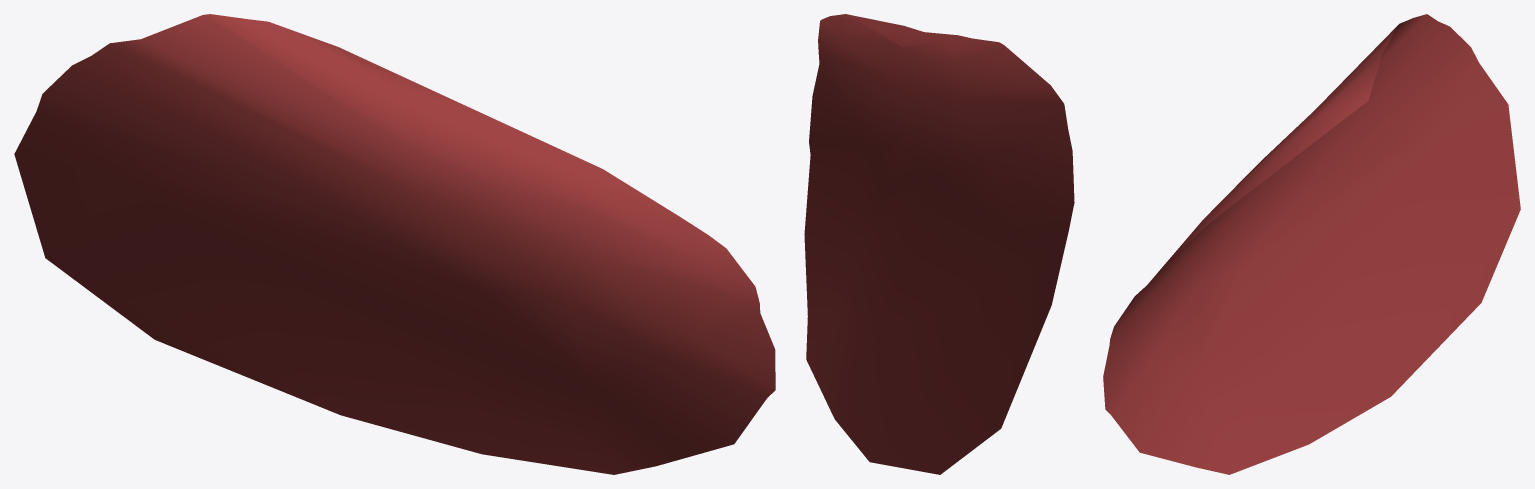
The model's file is omohyoid-muscle-ol.glb.
3 views of the same model, side by side, from view 1: azimuth 30°, elevation 25°; view 2: azimuth 150°, elevation 25°; view 3: azimuth 270°, elevation 25° (orthographic). The views are drawn at different scales.
Visible parts, largest first — view 1: Omohyoid muscle.ol; view 2: Omohyoid muscle.ol; view 3: Omohyoid muscle.ol.
Boxes of the visible parts, <box> form: Omohyoid muscle.ol: <box>14,14,775,474</box>; Omohyoid muscle.ol: <box>804,14,1074,474</box>; Omohyoid muscle.ol: <box>1103,14,1520,474</box>.
Size of the model in its own units: 0.00649 by 0.00565 by 0.00627.
